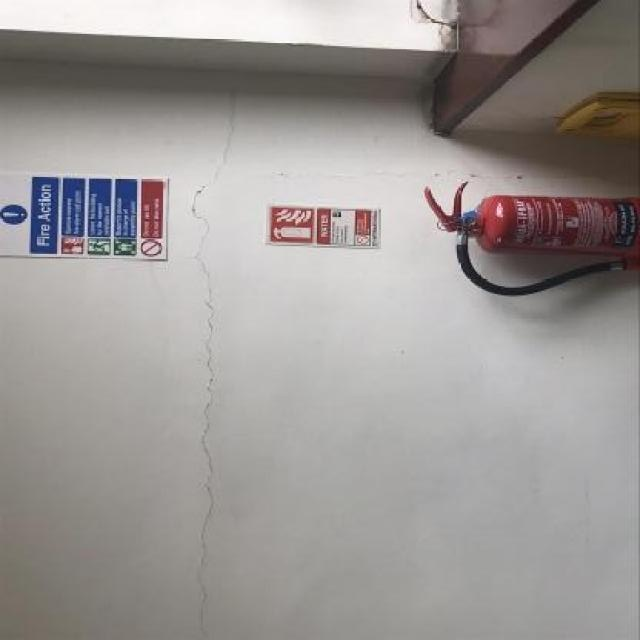fire extinguisher: (424, 179, 640, 296)
